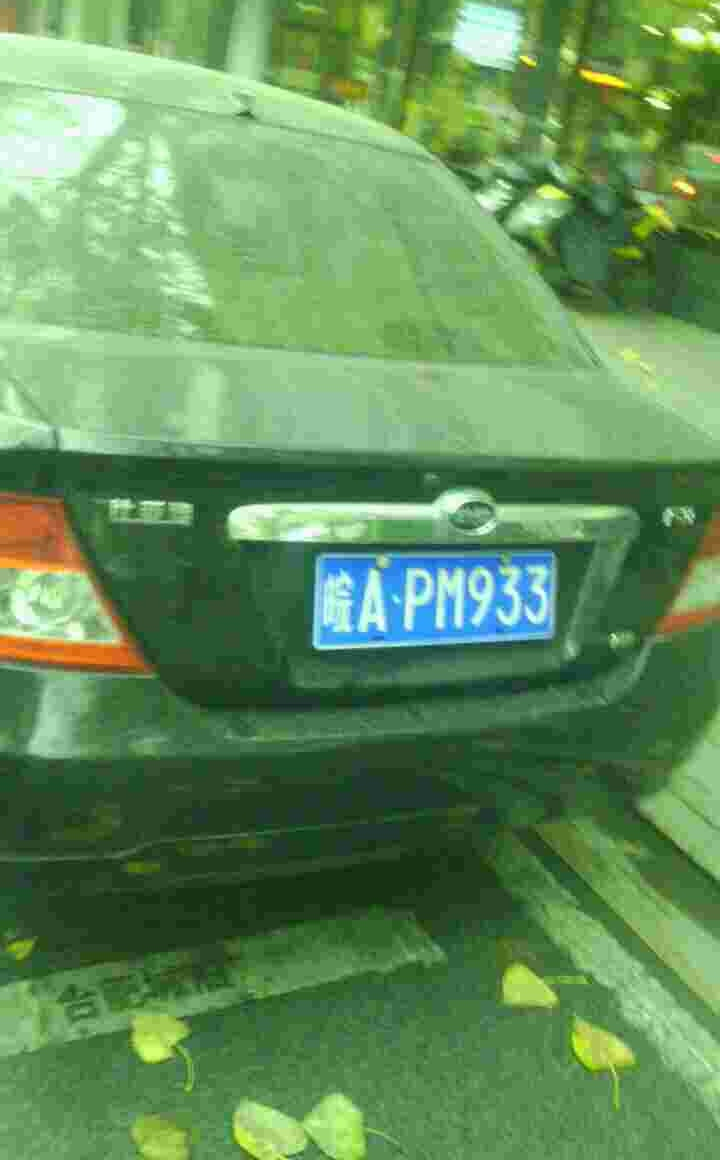license_plate: (308, 558, 552, 648)
